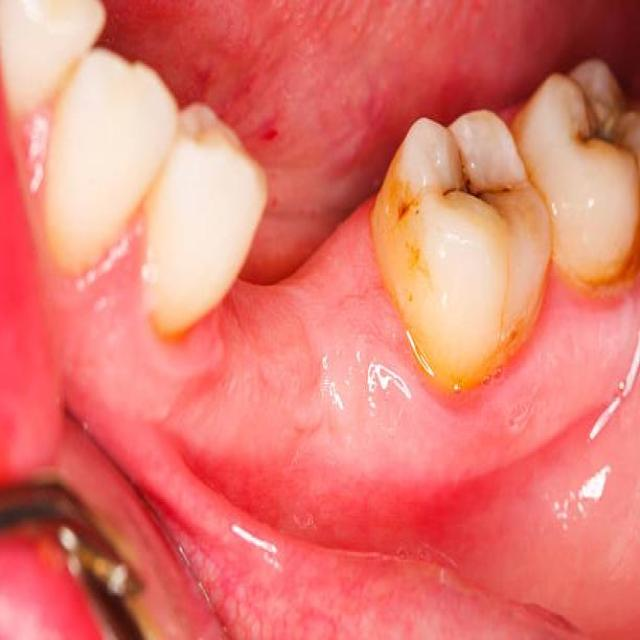caries: (437, 132, 521, 238), (558, 85, 640, 182), (378, 172, 428, 252)
